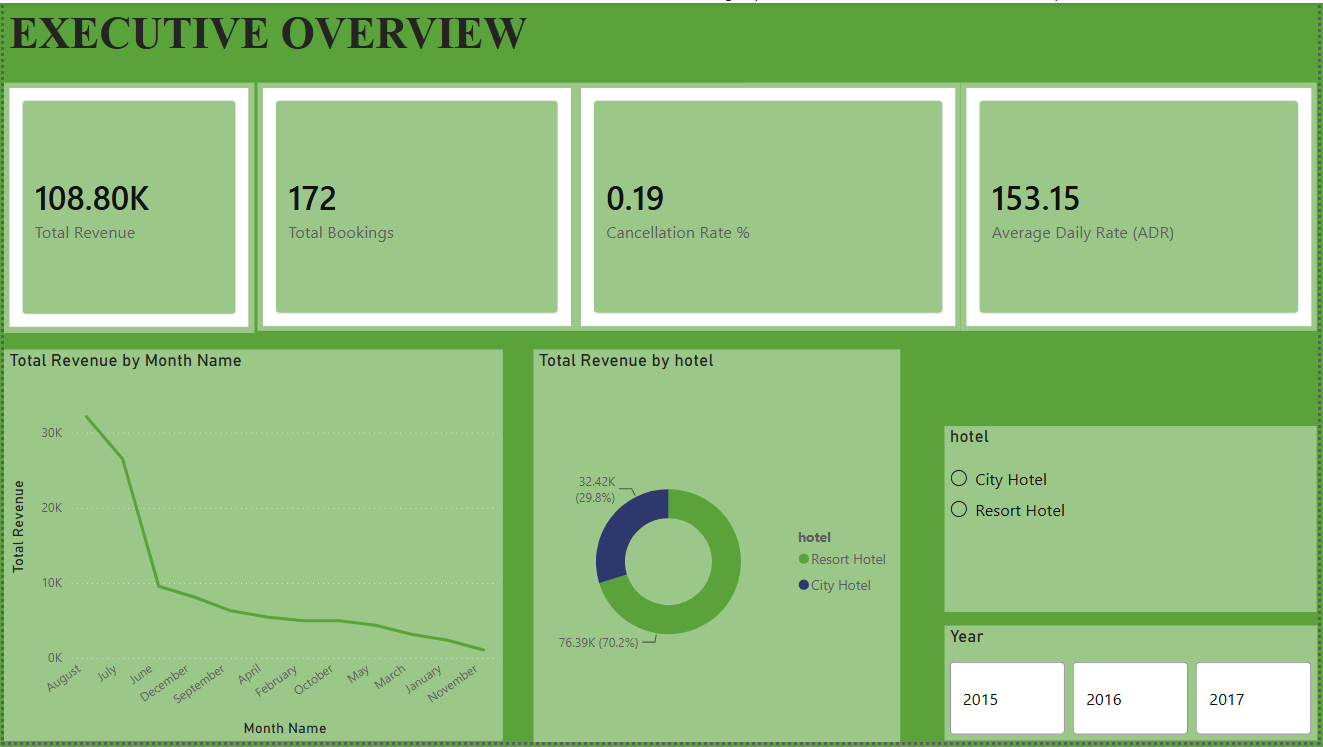

Layout of this report page (visuals, bound fields, positions):
{"tool":"powerbi","page":{"name":"Executive Overview","canvas":[1280,720],"ordinal":0},"visuals":[{"type":"cardVisual","fields":{"Data":["All_Measures.Total Revenue"]},"box":[0,77.2,243.8,243.8],"z":0},{"type":"cardVisual","fields":{"Data":["All_Measures.Total Bookings"]},"box":[246.8,77.2,310.4,242.3],"z":1000},{"type":"cardVisual","fields":{"Data":["All_Measures.Cancellation Rate %"]},"box":[557.2,77.2,375.5,242.3],"z":2000},{"type":"cardVisual","fields":{"Data":["All_Measures.Average Daily Rate (ADR)"]},"box":[932.8,77.2,346.8,242.3],"z":3000},{"type":"lineChart","fields":{"Category":["DimDate.Month Name"],"Y":["All_Measures.Total Revenue"]},"box":[0,337.7,486.1,381.6],"z":4000},{"type":"donutChart","fields":{"Category":["DimHotel.hotel"],"Y":["All_Measures.Total Revenue"]},"box":[516.3,337.7,357.4,383.1],"z":5000},{"type":"listSlicer","fields":{"Values":["DimHotel.hotel"]},"box":[916.1,411.9,362.8,181.4],"z":6000},{"type":"advancedSlicerVisual","fields":{"Values":["DimDate.Year"]},"box":[916.1,607.2,363.4,112.1],"z":7000},{"type":"textbox","box":[0,0,722.3,77.2],"z":7001}]}

Visuals, with their boxes in screenshot pixels (x1, y1, x2, y2), scaled from the page's 1280x720 canvas onto the 1323x747 screenshot:
cardVisual - All_Measures.Total Revenue: [left=0, top=80, right=252, bottom=333]
cardVisual - All_Measures.Total Bookings: [left=255, top=80, right=576, bottom=331]
cardVisual - All_Measures.Cancellation Rate %: [left=576, top=80, right=964, bottom=331]
cardVisual - All_Measures.Average Daily Rate (ADR): [left=964, top=80, right=1322, bottom=331]
lineChart - DimDate.Month Name x All_Measures.Total Revenue: [left=0, top=350, right=502, bottom=746]
donutChart - DimHotel.hotel x All_Measures.Total Revenue: [left=534, top=350, right=903, bottom=746]
listSlicer - DimHotel.hotel: [left=947, top=427, right=1322, bottom=616]
advancedSlicerVisual - DimDate.Year: [left=947, top=630, right=1322, bottom=746]
textbox: [left=0, top=0, right=747, bottom=80]
